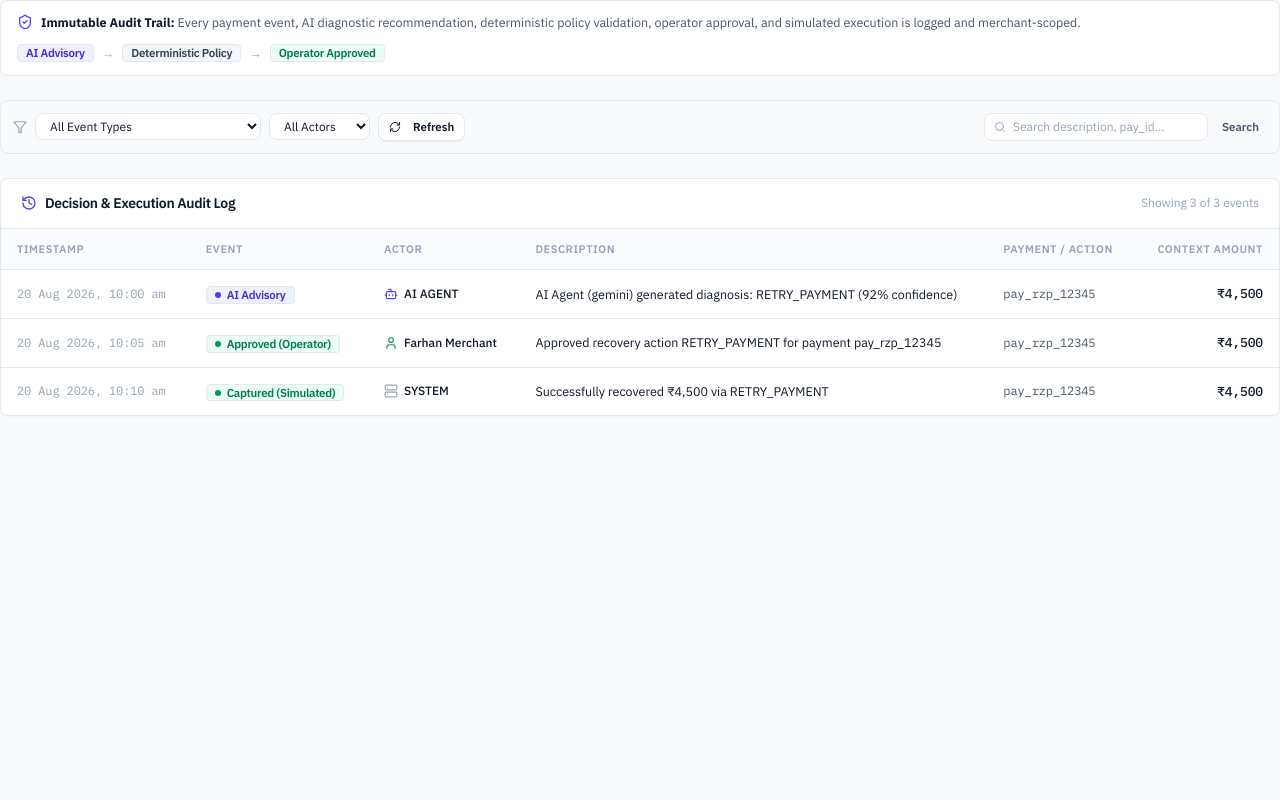
Test: Audit Logs Client Component (Milestone 7 Step 12A) › opens the detail drawer when an audit log row is clicked
The width and height of the screenshot is (1280, 800).
Click the text "AI Agent (gemini) generated diagnosis".
click(753, 294)  # box 535,284 -> 971,303
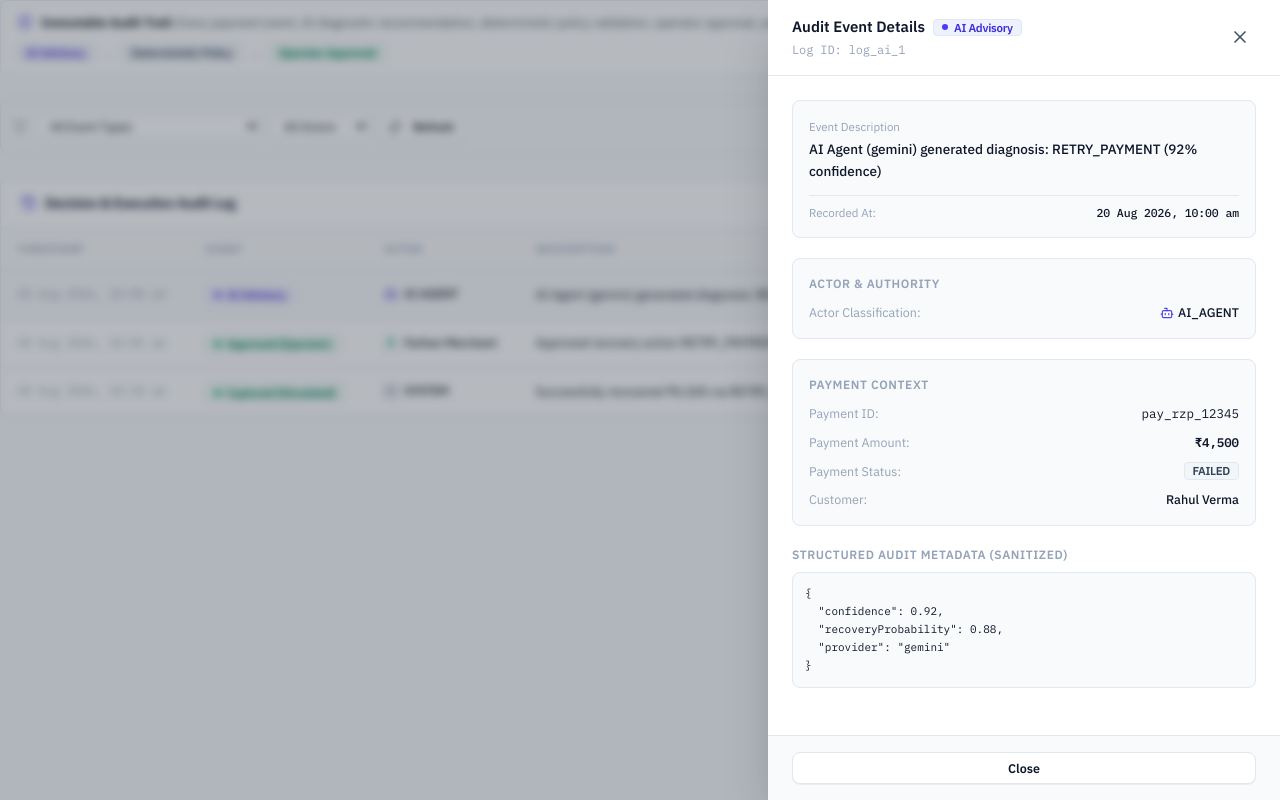
Now the heading "Audit Event Details" is shown, box 792,16 -> 925,38
Now the heading "Structured Audit Metadata (Sanitized)" is shown, box 792,547 -> 1068,562
Now the text "Rahul Verma" is shown, box 1166,490 -> 1239,509
